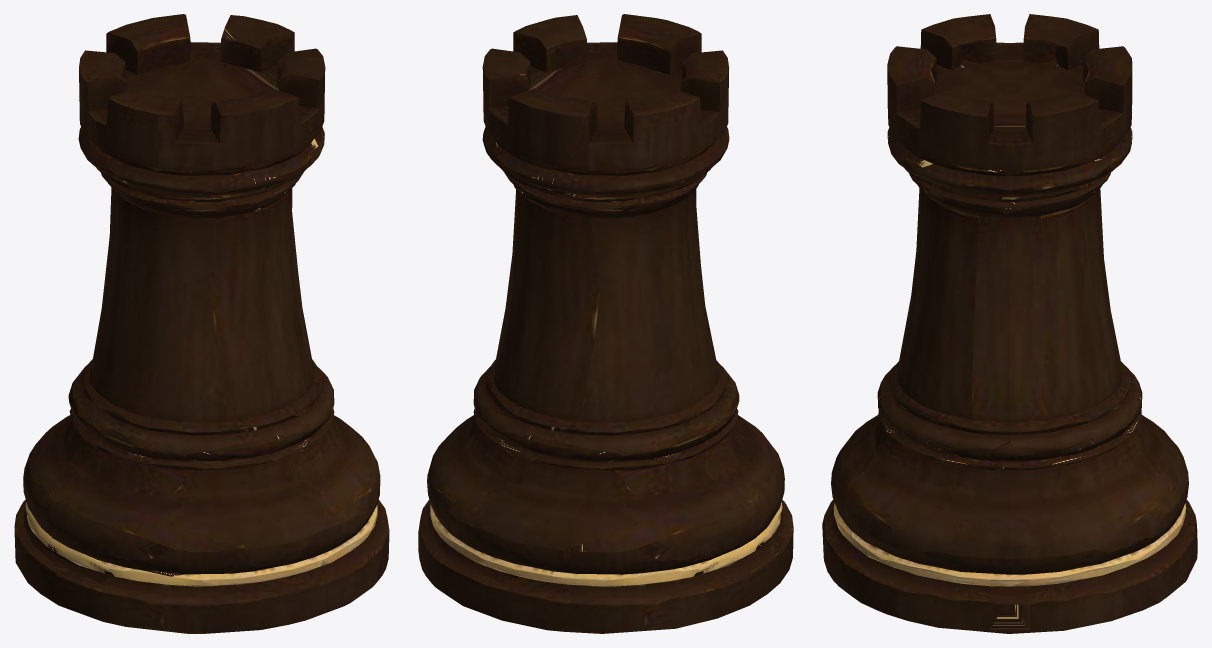
Rendered from black-rook.glb.
3 views of the same model, side by side, from view 1: azimuth 30°, elevation 25°; view 2: azimuth 150°, elevation 25°; view 3: azimuth 270°, elevation 25° (orthographic).
Parts seen in each view (by area): view 1: world; view 2: world; view 3: world.
Boxes of the visible parts, <box> form: world: <box>14,14,389,633</box>; world: <box>418,14,793,633</box>; world: <box>822,14,1197,633</box>.
Size of the model in its own units: 0.6926 by 1 by 0.6931.
1 material, 1 textured.
